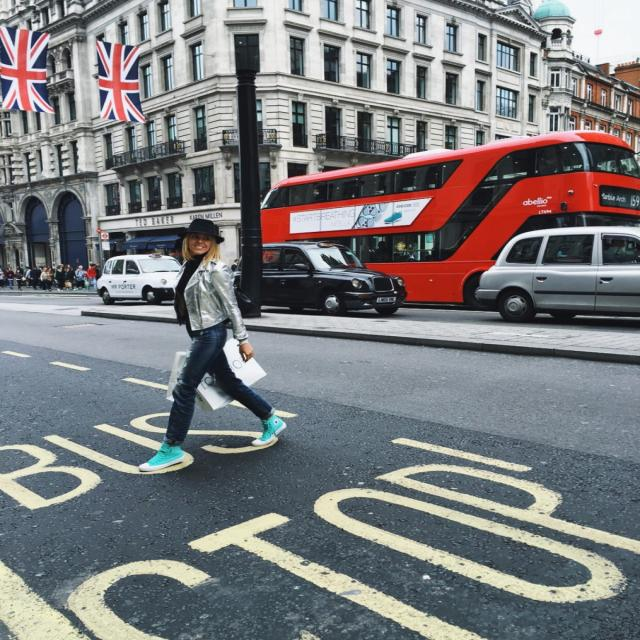body: (136, 216, 290, 474), (368, 240, 394, 262), (63, 266, 80, 291), (74, 264, 88, 290), (86, 263, 98, 293), (39, 267, 52, 292), (54, 265, 66, 292), (307, 183, 322, 204), (28, 266, 38, 290), (5, 266, 15, 290), (12, 268, 22, 291), (24, 266, 33, 288), (47, 267, 54, 290), (94, 262, 102, 281), (230, 258, 240, 272), (0, 264, 6, 287), (0, 267, 5, 291), (15, 265, 24, 276), (23, 265, 29, 278), (63, 264, 72, 272), (38, 265, 44, 272), (58, 263, 64, 267), (5, 267, 9, 273)
